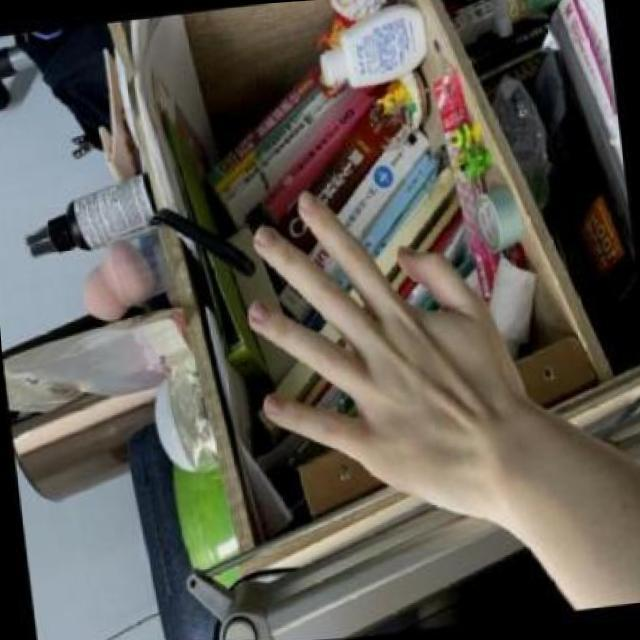without_gloves: (215, 143, 560, 566)
